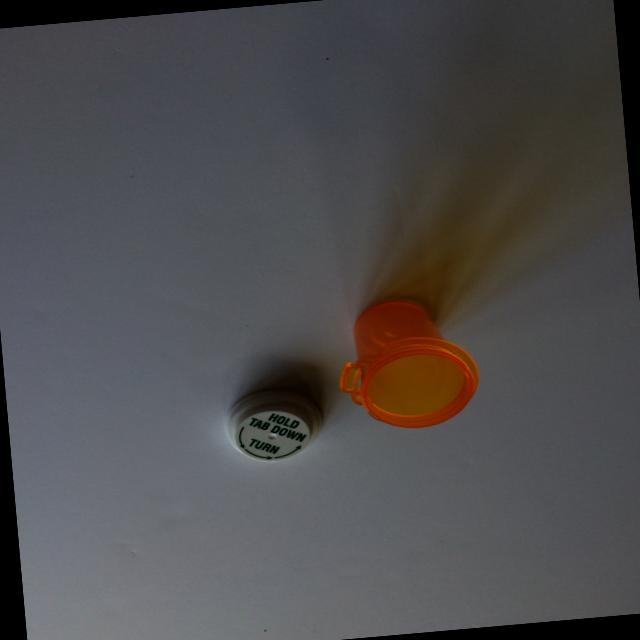Plastic: (198, 268, 500, 500)
